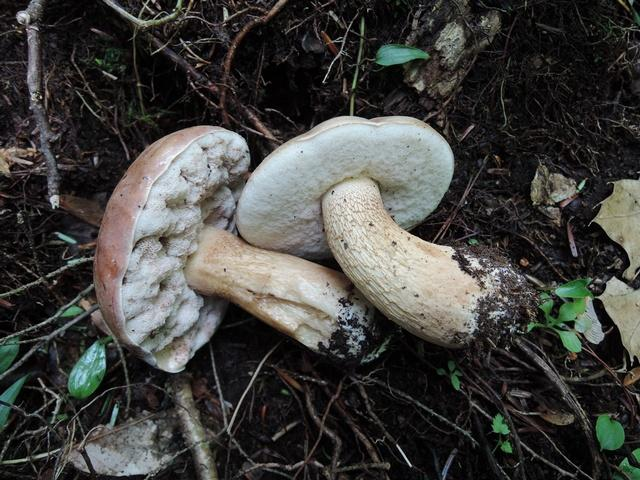poisonous_mushroom: (91, 123, 385, 374), (234, 113, 540, 350)
